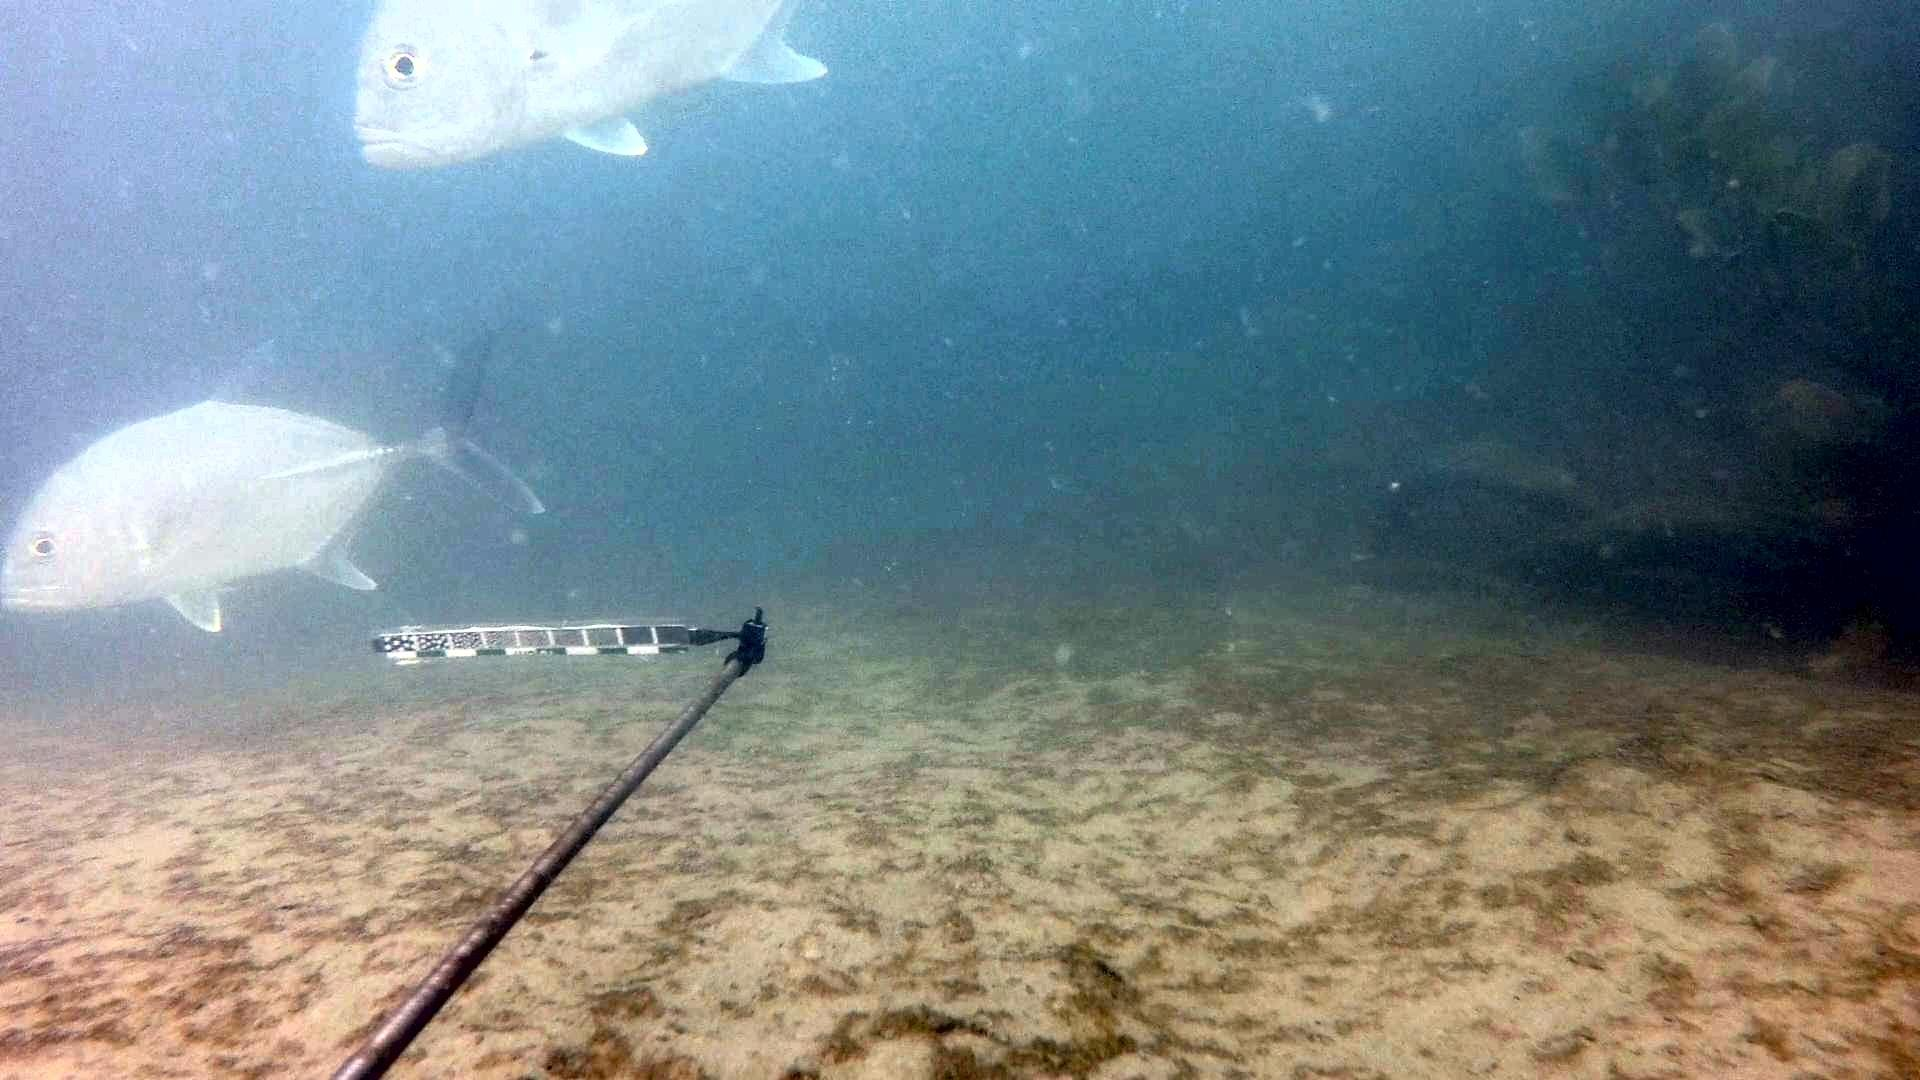caranx: (0, 319, 551, 645), (340, 0, 851, 179)
